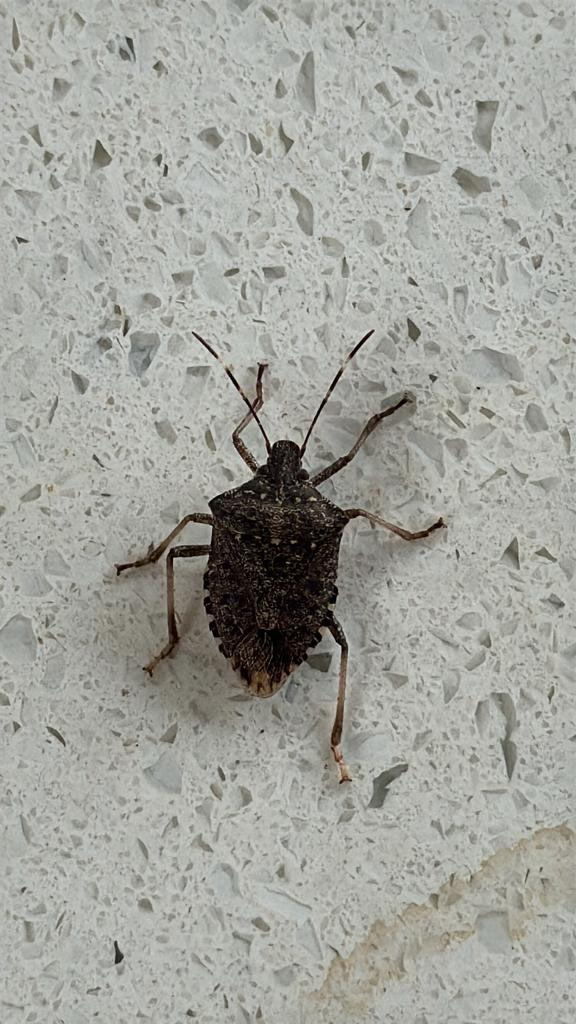stink_bugs: (56, 284, 525, 832)
